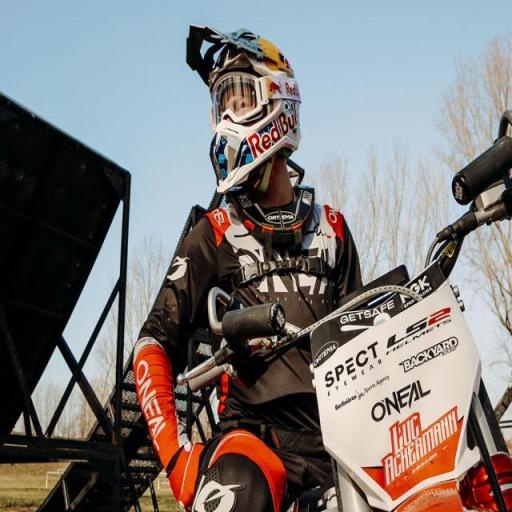Helmet: (184, 30, 310, 198)
Motor: (194, 158, 512, 512)
